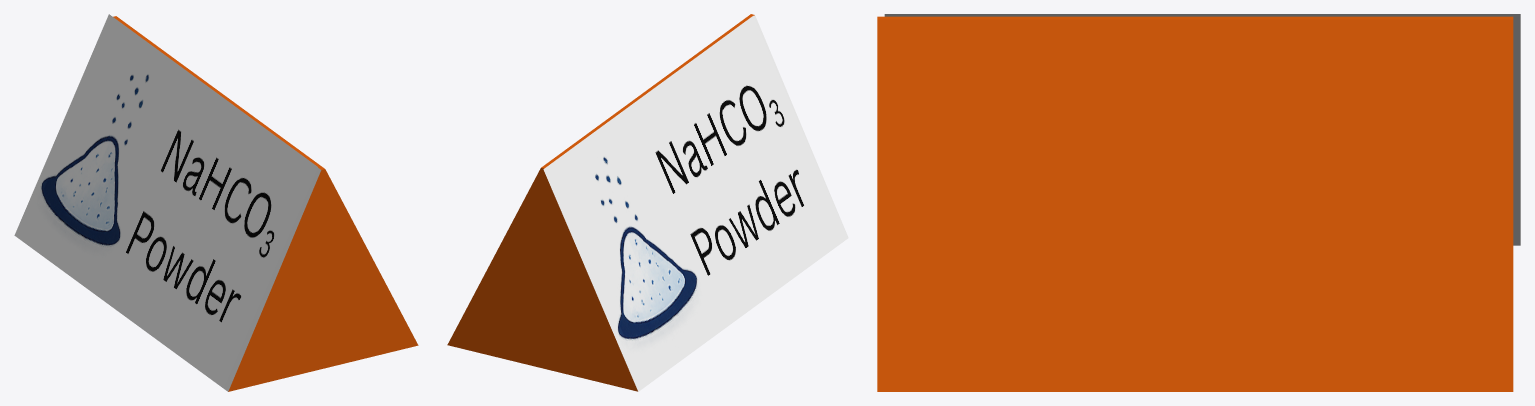
The model's file is signboard.fbx.
3 views of the same model, side by side, from view 1: azimuth 30°, elevation 25°; view 2: azimuth 150°, elevation 25°; view 3: azimuth 270°, elevation 25° (orthographic). The views are drawn at different scales.
Parts seen in each view (by area): view 1: Cube.001, Cube; view 2: Cube.001, Cube; view 3: Cube, Cube.001.
Boxes of the visible parts, <box> form: Cube.001: <box>14,14,317,388</box>; Cube: <box>113,16,418,391</box>; Cube.001: <box>543,15,848,391</box>; Cube: <box>447,14,848,391</box>; Cube: <box>877,16,1513,391</box>; Cube.001: <box>884,14,1520,245</box>.
Bounding box in the file's own units: 202 × 201 × 385.
Materials: 2 (1 with a texture image).
